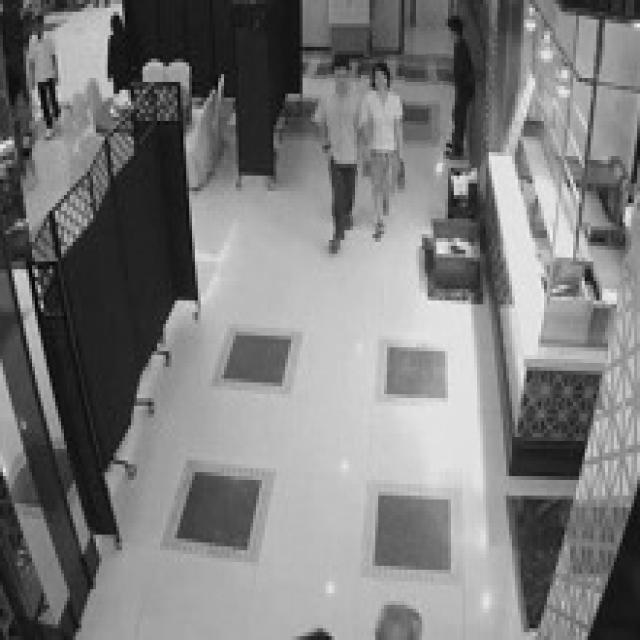Normal: (311, 58, 361, 240), (426, 9, 483, 166), (359, 58, 405, 236)
